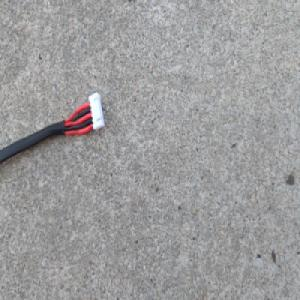Wire: (0, 89, 106, 171)
